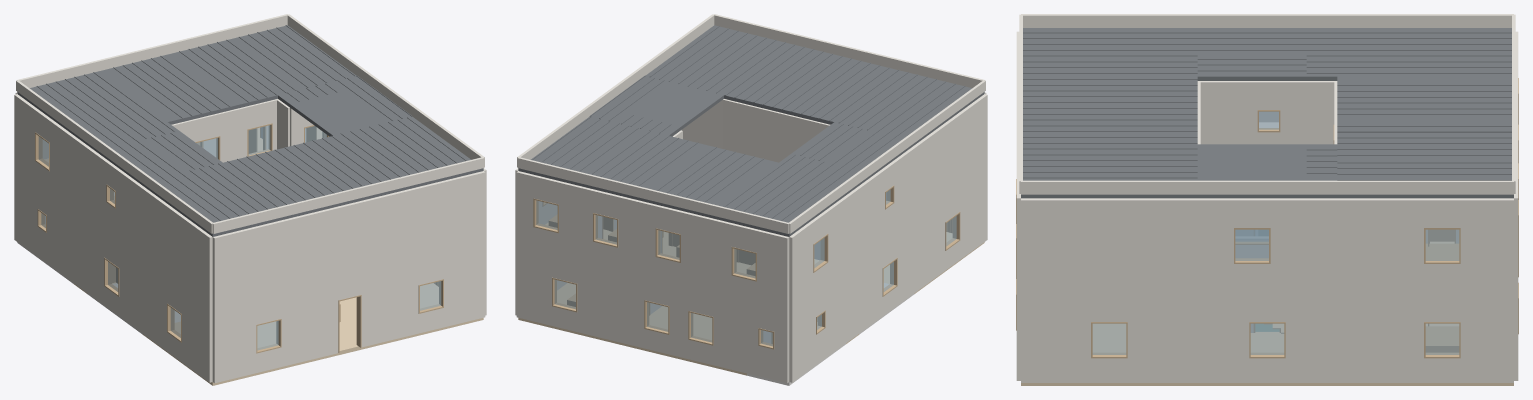
The picture shows the model from 3 angles, left to right: view 1: azimuth 30°, elevation 25°; view 2: azimuth 150°, elevation 25°; view 3: azimuth 270°, elevation 25°; orthographic projection. The views are drawn at different scales.
Parts seen in each view (by area): view 1: wall:W-9cc025dc41bd (×9), roof:roof-living, wall:W-90e7852743f1 (×4), roof:parapet-living (×3), wall:W-82c09b0183e0 (×4), roof:roof-primary, wall:W-80f0de844ffc (×4), wall:W-09620ce6deca (×4), roof:roof-family, roof:roof-bedroom-2, roof:roof-bedroom-3, floor:slab-living (+29 smaller); view 2: roof:roof-living, wall:W-90e7852743f1 (×4), wall:W-c40d30129a7d (×5), wall:W-840e627b483e (×4), wall:W-4e0f310644b0 (×4), roof:parapet-living (×3), wall:W-82c09b0183e0 (×4), wall:W-c16fe56849cf (×4), wall:W-8bdcbcf73927, wall:W-09620ce6deca (×4), wall:W-80f0de844ffc (×4), roof:roof-primary (+39 smaller); view 3: wall:W-ae5dfee7b2c2 (×4), roof:roof-living, wall:W-a69fb22c0ae0 (×4), wall:W-b1db41834173 (×4), wall:W-b5cd107e74e1 (×4), wall:W-3d45a593d922 (×4), roof:roof-primary, roof:parapet-living (×3), roof:roof-family, roof:roof-bedroom-2, wall:W-20dab481a993 (×4), roof:roof-bedroom-3 (+38 smaller).
Boxes of the visible parts, x1,y1,x2,y2 form: wall:W-9cc025dc41bd (×9): (212,171,485,383); roof:roof-living: (142,116,483,236); wall:W-90e7852743f1 (×4): (139,186,212,382); roof:parapet-living (×3): (141,106,484,233); wall:W-82c09b0183e0 (×4): (14,165,70,280); roof:roof-primary: (17,70,159,134); wall:W-80f0de844ffc (×4): (84,216,139,331); wall:W-09620ce6deca (×4): (14,94,73,206); roof:roof-family: (104,54,225,110); roof:roof-bedroom-2: (170,39,284,94); roof:roof-bedroom-3: (230,25,343,80); floor:slab-living: (142,283,483,385); roof:roof-living: (645,25,984,144); wall:W-90e7852743f1 (×4): (915,94,987,290); wall:W-c40d30129a7d (×5): (613,266,745,372); wall:W-840e627b483e (×4): (516,243,612,340); wall:W-4e0f310644b0 (×4): (701,216,789,308); roof:parapet-living (×3): (643,14,985,141); wall:W-82c09b0183e0 (×4): (789,267,848,382); wall:W-c16fe56849cf (×4): (635,200,702,287); wall:W-8bdcbcf73927: (723,99,830,162); wall:W-09620ce6deca (×4): (789,195,848,307); wall:W-80f0de844ffc (×4): (862,216,917,331); roof:roof-primary: (703,171,845,236); wall:W-ae5dfee7b2c2 (×4): (1021,198,1197,382); roof:roof-living: (1021,28,1197,198); wall:W-a69fb22c0ae0 (×4): (1371,288,1513,382); wall:W-b1db41834173 (×4): (1197,288,1337,382); wall:W-b5cd107e74e1 (×4): (1371,198,1513,288); wall:W-3d45a593d922 (×4): (1197,198,1306,288); roof:roof-primary: (1371,28,1511,79); roof:parapet-living (×3): (1019,14,1197,194); roof:roof-family: (1371,80,1511,120); roof:roof-bedroom-2: (1371,120,1511,157); wall:W-20dab481a993 (×4): (1231,81,1306,144); roof:roof-bedroom-3: (1371,157,1513,198).
Size of the model in its own units: 13.24 by 7.39 by 16.46.
